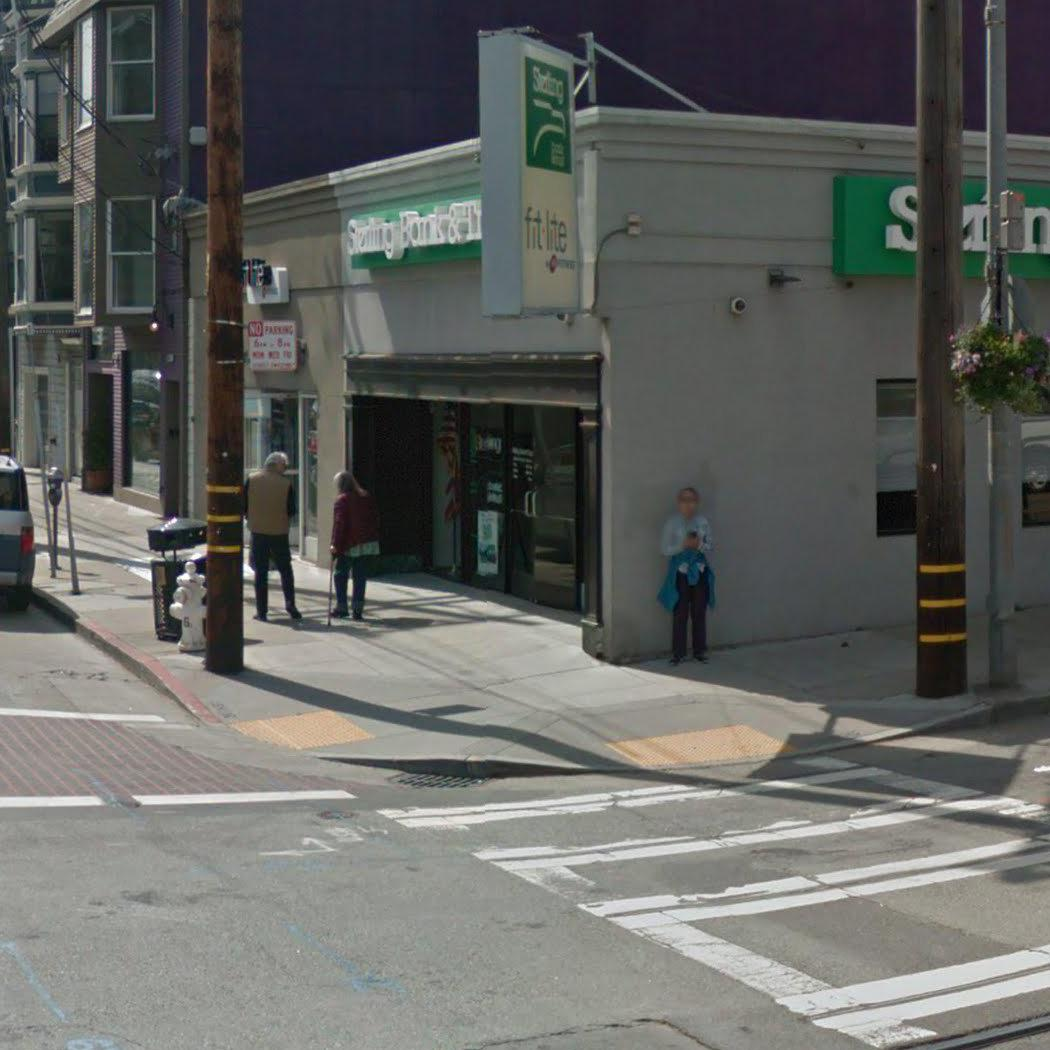No Parking: (243, 317, 303, 375)
